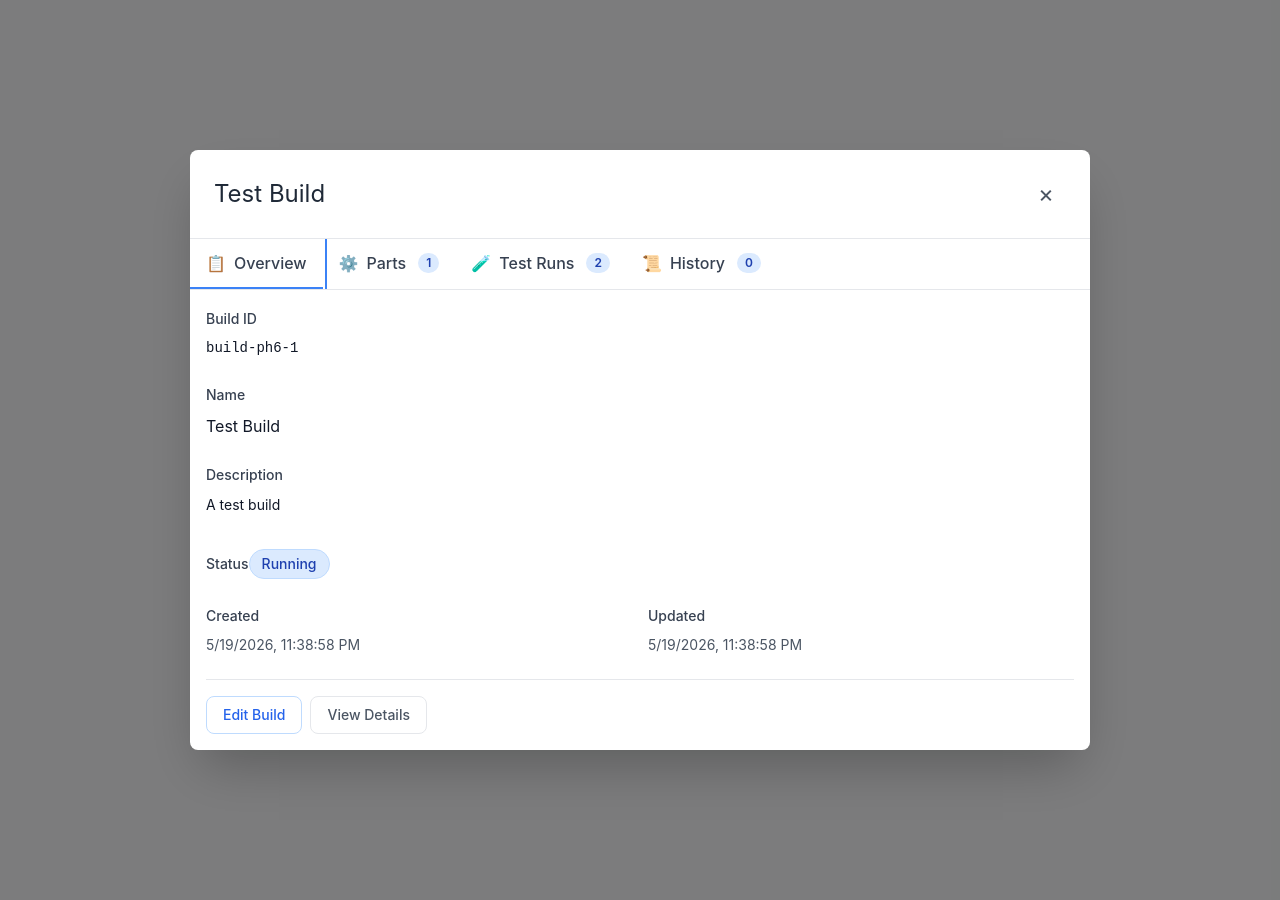
Scenario: BuildDetailModal - Phase 6: Event Handlers › 6.6: Integration Tests - Tab Interaction Flow › should navigate between tabs without losing state
# Navigate to Parts
Click the tab "⚙️ Parts 1".
click(389, 264)  # box [323,239,455,289]
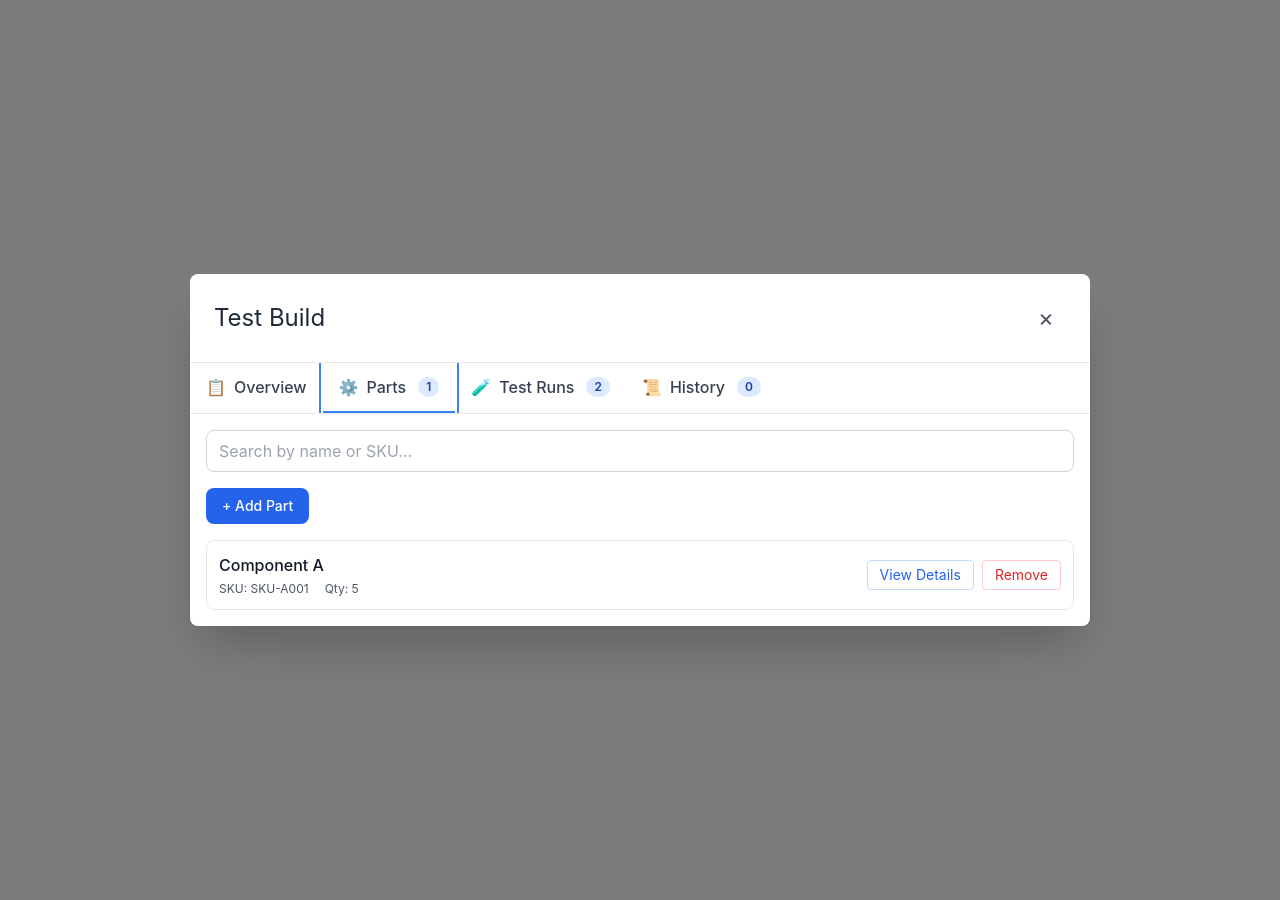
Expected: the text "Component A" is shown, [219,555,324,575]
# Navigate to Test Runs
Click the tab "🧪 Test Runs 2".
click(541, 388)  # box [455,363,626,413]
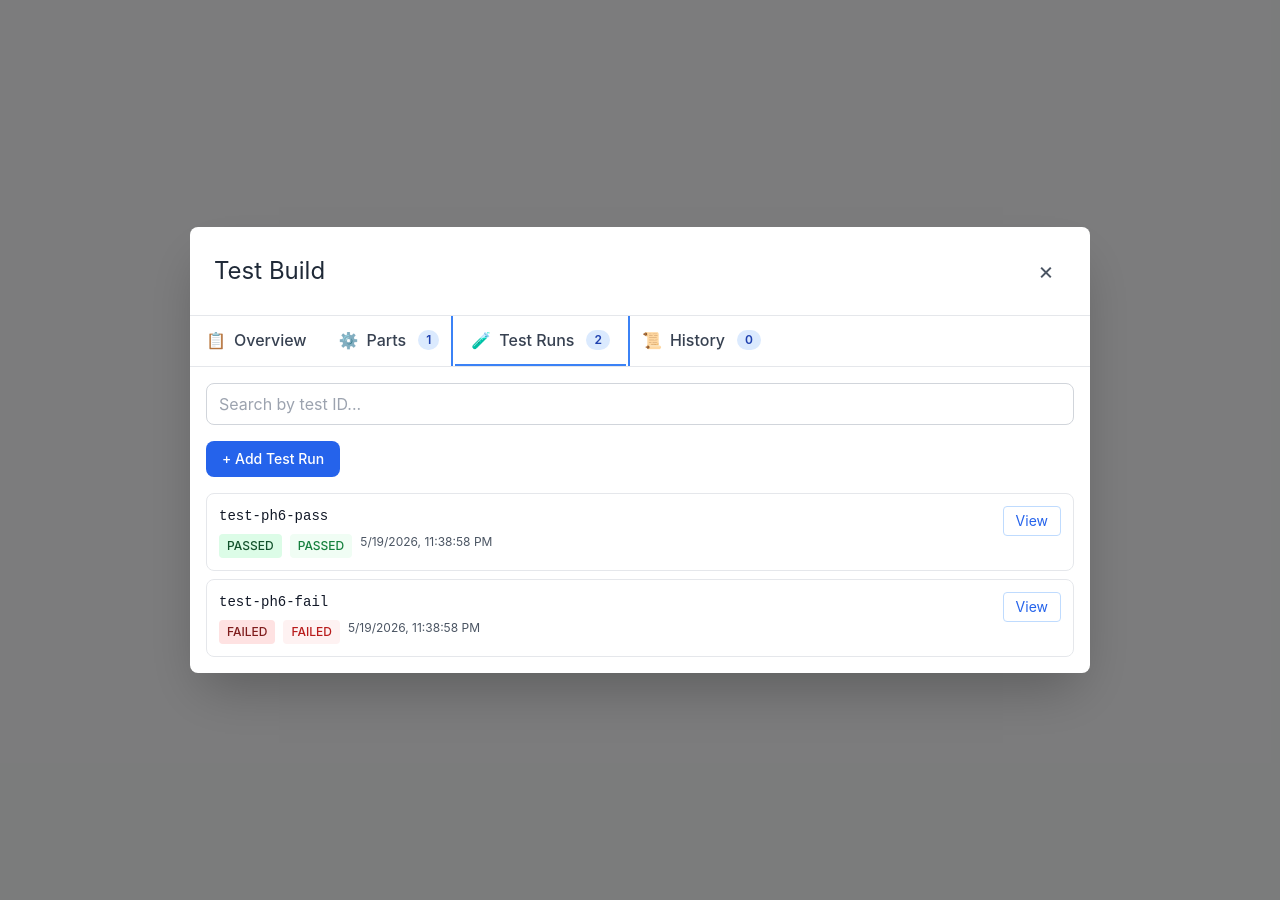
Expected: the tab "🧪 Test Runs 2" is selected, [455,316,626,366]
# Navigate back to Parts
Click the tab "⚙️ Parts 1".
click(389, 341)  # box [323,316,455,366]
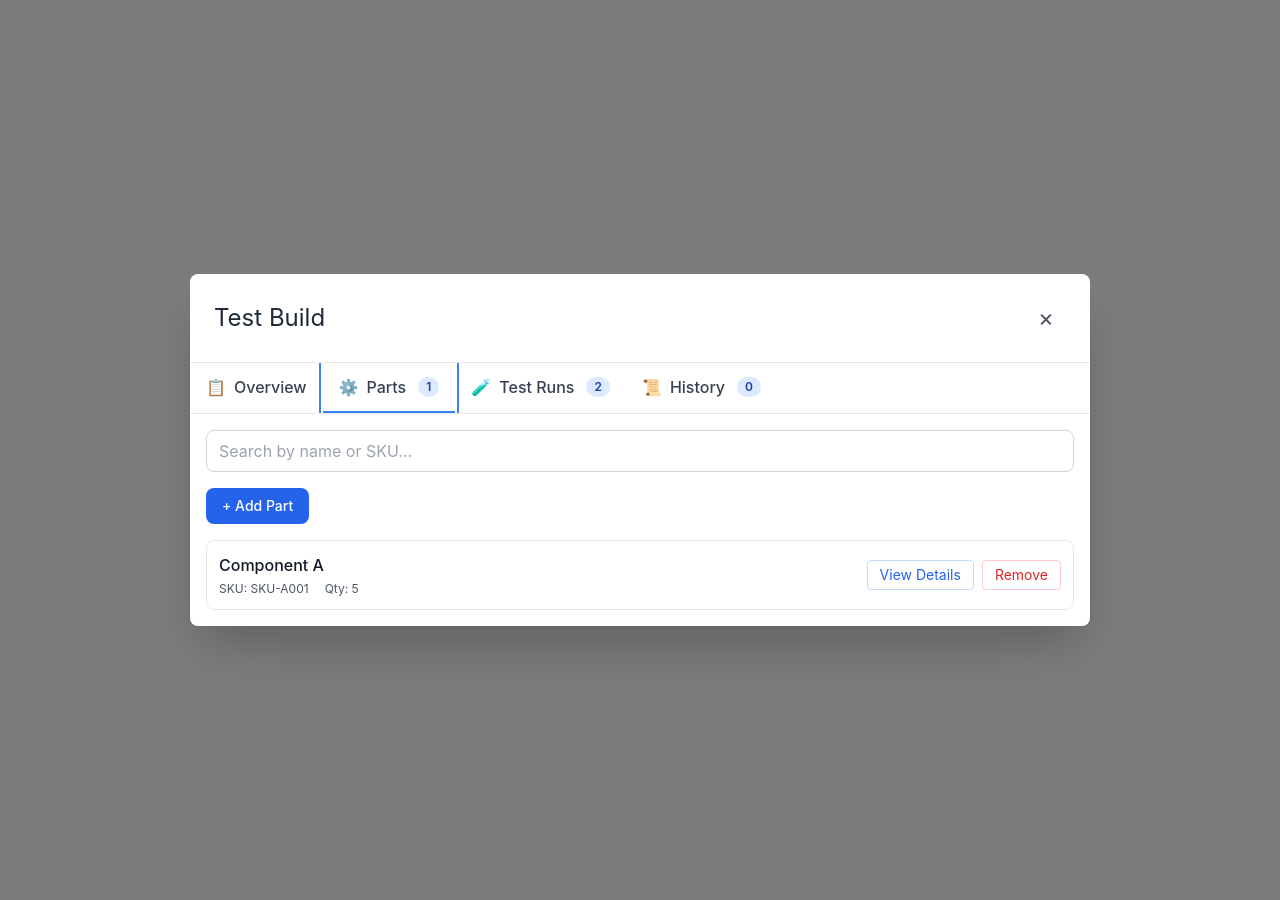
Expected: the text "Component A" is shown, [219,555,324,575]
